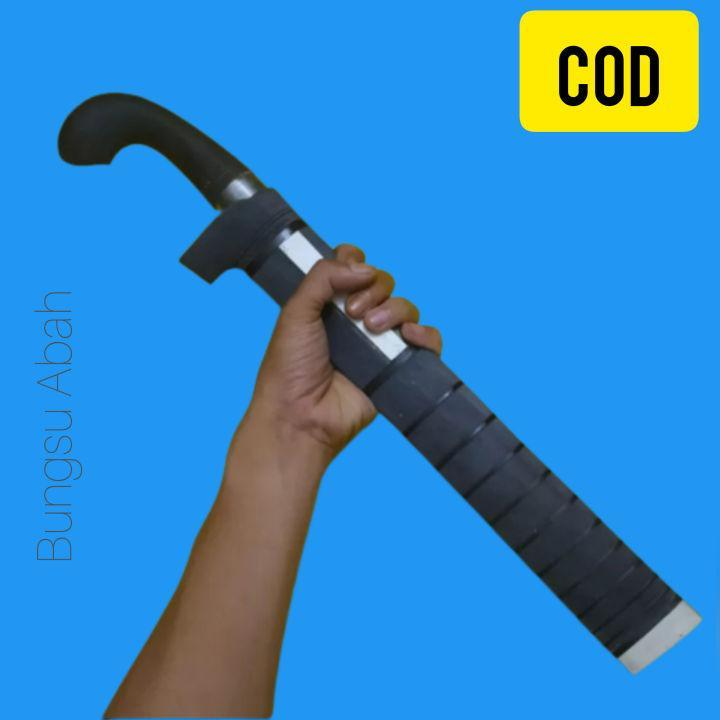facao: (39, 58, 712, 664)
